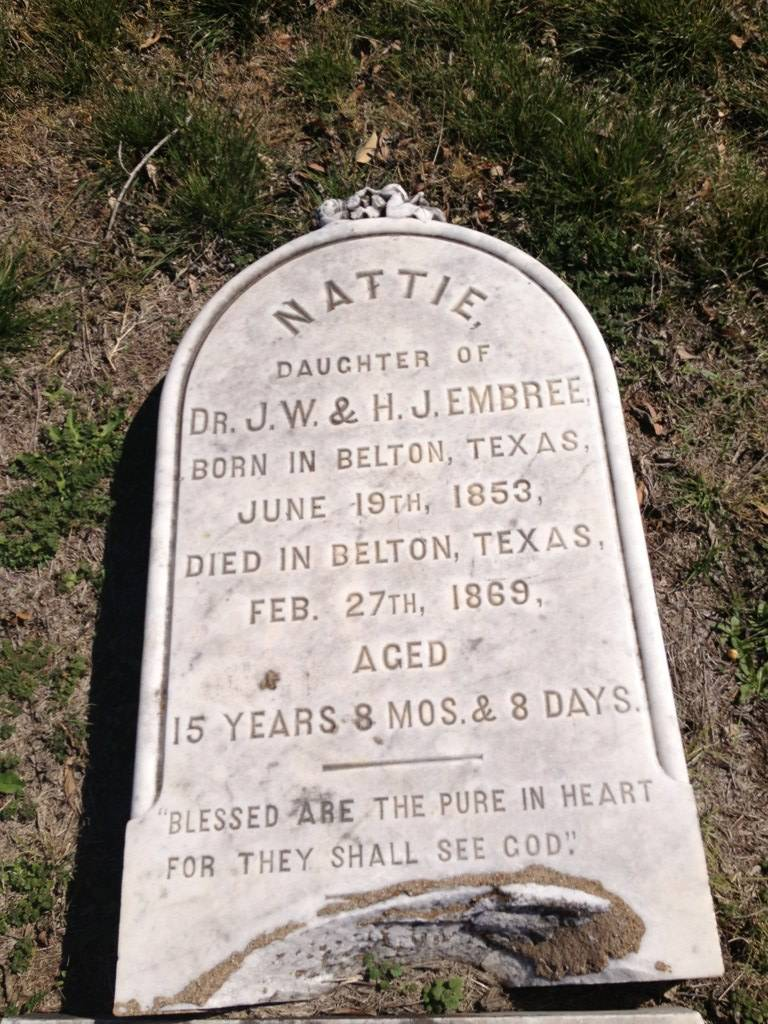flat: (76, 205, 726, 1013)
